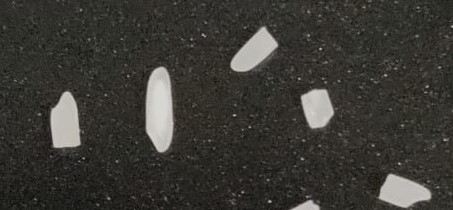broken_grain: (228, 23, 281, 74), (47, 90, 87, 151), (375, 168, 432, 210), (298, 85, 337, 130)
complete_grain: (142, 63, 178, 159)
